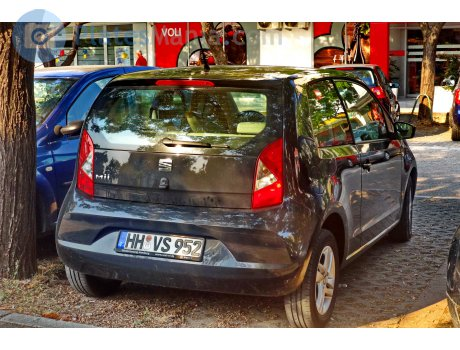License Plates: (122, 230, 197, 250)
